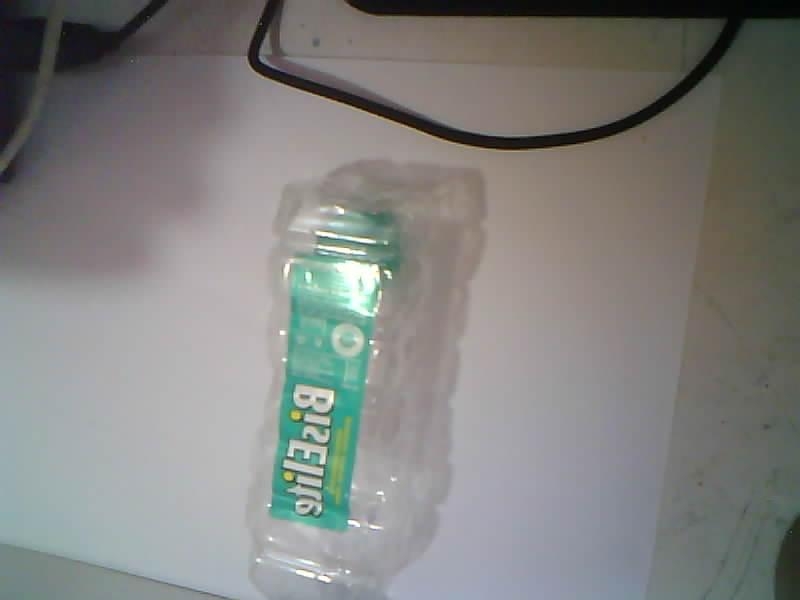non-biodegradable: (248, 169, 481, 599)
